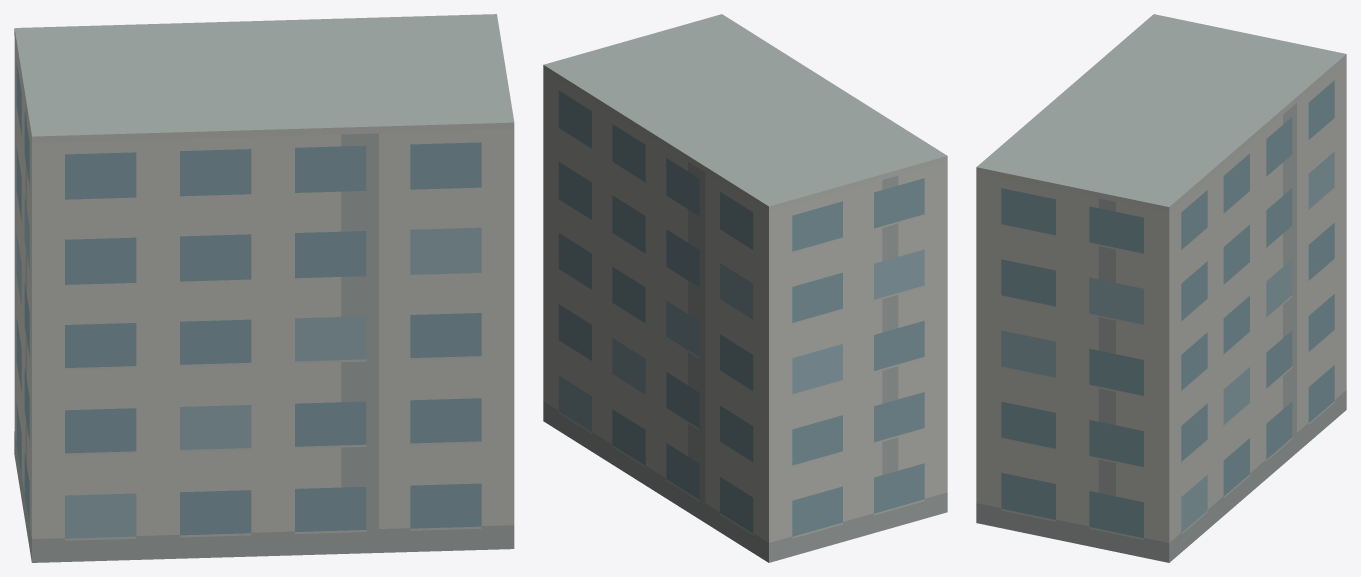
File: residential-1b7fcc09-178d-48b3-a4c9-18ee15405bad.glb
The picture shows the model from 3 angles, left to right: view 1: azimuth 30°, elevation 25°; view 2: azimuth 150°, elevation 25°; view 3: azimuth 270°, elevation 25°; orthographic projection. The views are drawn at different scales.
Parts seen in each view (by area): view 1: residential-1b7fcc09-178d-48b3-a4c9-18ee15405bad.tmp; view 2: residential-1b7fcc09-178d-48b3-a4c9-18ee15405bad.tmp; view 3: residential-1b7fcc09-178d-48b3-a4c9-18ee15405bad.tmp.
Part boxes in pixels (x1=…): residential-1b7fcc09-178d-48b3-a4c9-18ee15405bad.tmp: x1=14, y1=14, x2=514, y2=562; residential-1b7fcc09-178d-48b3-a4c9-18ee15405bad.tmp: x1=543, y1=14, x2=947, y2=562; residential-1b7fcc09-178d-48b3-a4c9-18ee15405bad.tmp: x1=976, y1=14, x2=1346, y2=562.
Bounding box in the file's own units: 17.47 × 15 × 14.16.
